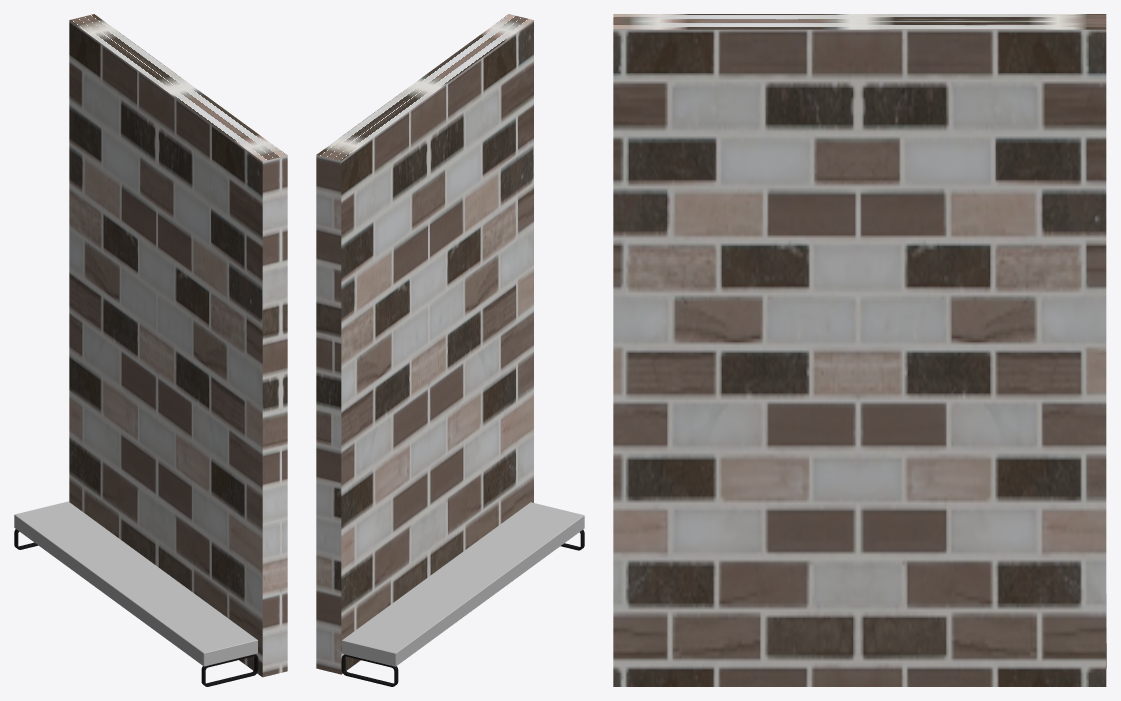
The model's file is Screen.FBX.
3 renders of one model, left to right at view 1: azimuth 30°, elevation 25°; view 2: azimuth 150°, elevation 25°; view 3: azimuth 270°, elevation 25°, orthographic. The views are drawn at different scales.
Visible parts, largest first — view 1: object 1, zhongdian009, putong029; view 2: object 1, zhongdian009, putong029; view 3: object 1.
Part boxes in pixels (x1,y1,x2,y2): object 1: (69, 14, 287, 677); zhongdian009: (14, 501, 257, 666); putong029: (14, 529, 258, 686); object 1: (316, 14, 533, 674); zhongdian009: (342, 502, 584, 666); putong029: (341, 530, 584, 686); object 1: (613, 14, 1106, 686).
Size of the model in its own units: 47.77 by 294 by 200.
